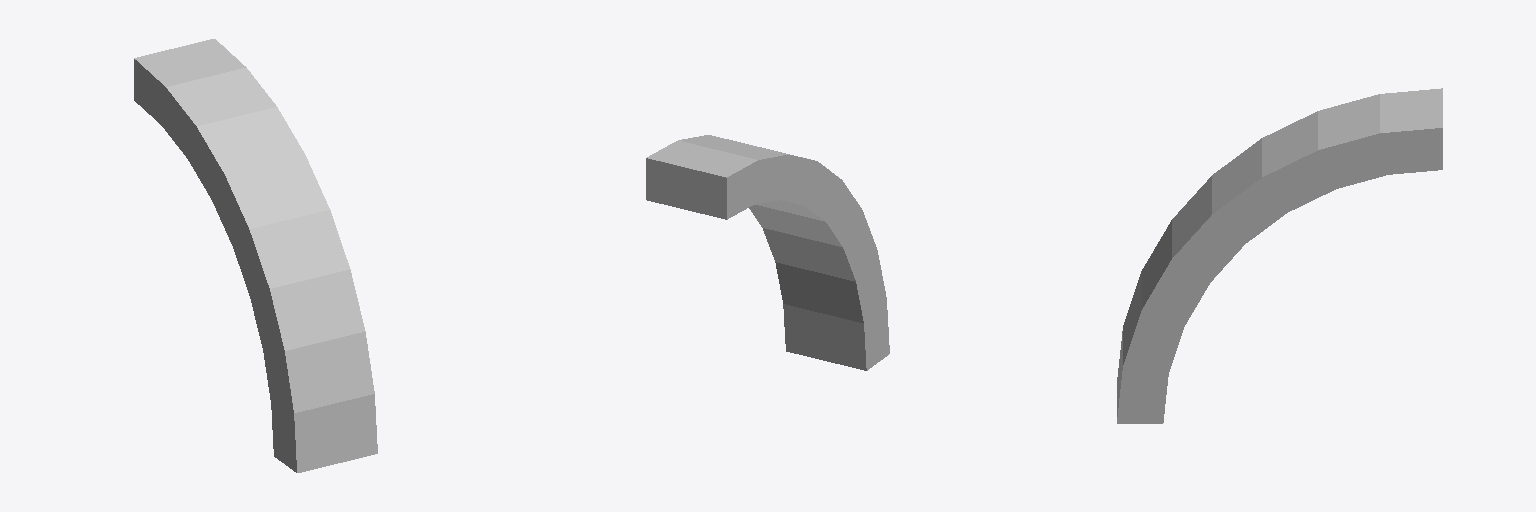
File: Pipe_Quarter.obj
3 views of the same model, side by side, from view 1: azimuth 30°, elevation 25°; view 2: azimuth 150°, elevation 25°; view 3: azimuth 270°, elevation 25° (orthographic).
Parts seen in each view (by area): view 1: Cube_Cube.001; view 2: Cube_Cube.001; view 3: Cube_Cube.001.
Boxes of the visible parts, box(x1,y1,x2,y2) form: Cube_Cube.001: box(134, 39, 377, 472); Cube_Cube.001: box(646, 135, 889, 370); Cube_Cube.001: box(1117, 88, 1442, 423).
Bounding box in the file's own units: 1 × 3.5 × 3.5.